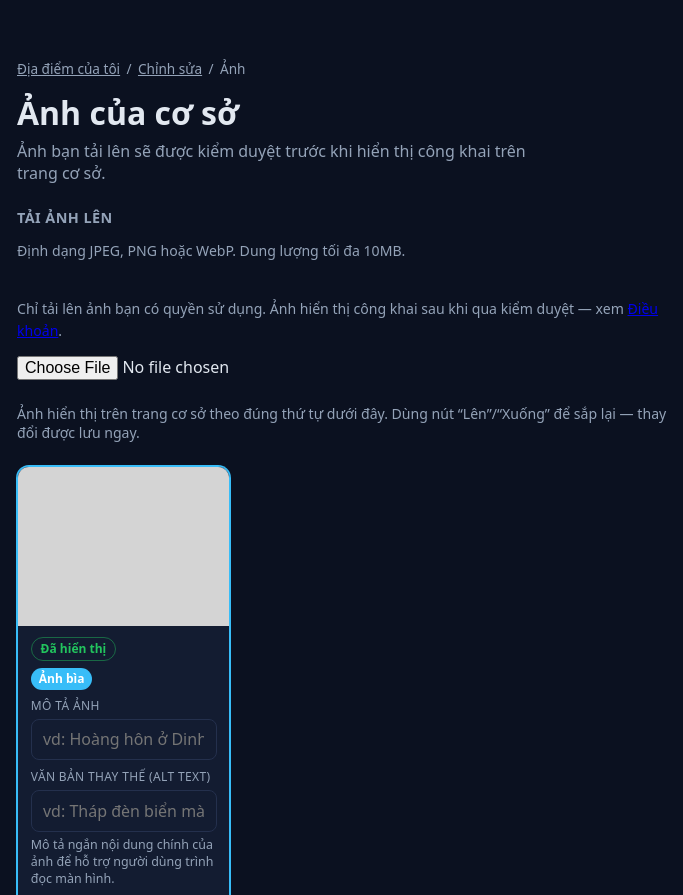
Scenario: PhotosView — sửa mô tả ảnh (caption/alt_text) › ảnh đang là bìa: sửa metadata KHÔNG làm mất huy hiệu "Ảnh bìa"
Expected: the text "Ảnh bìa" is shown, [31,668,92,690]
In the field labelled "Mô tả ảnh": (124, 739) [31,719,216,760], type "x"
(page scrolled)
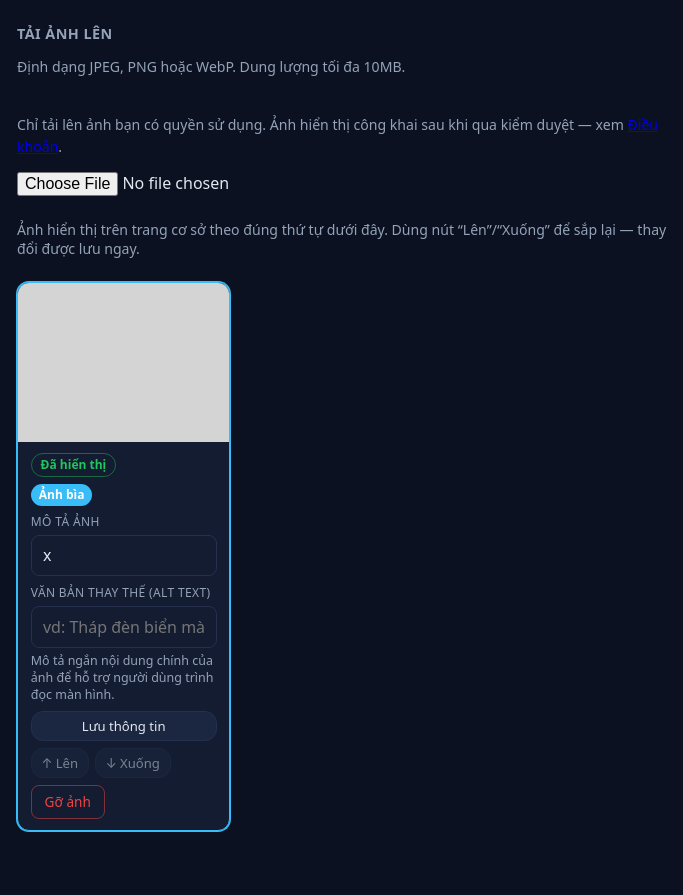
Click the button "Lưu thông tin": click(124, 726) [31,711,216,741]
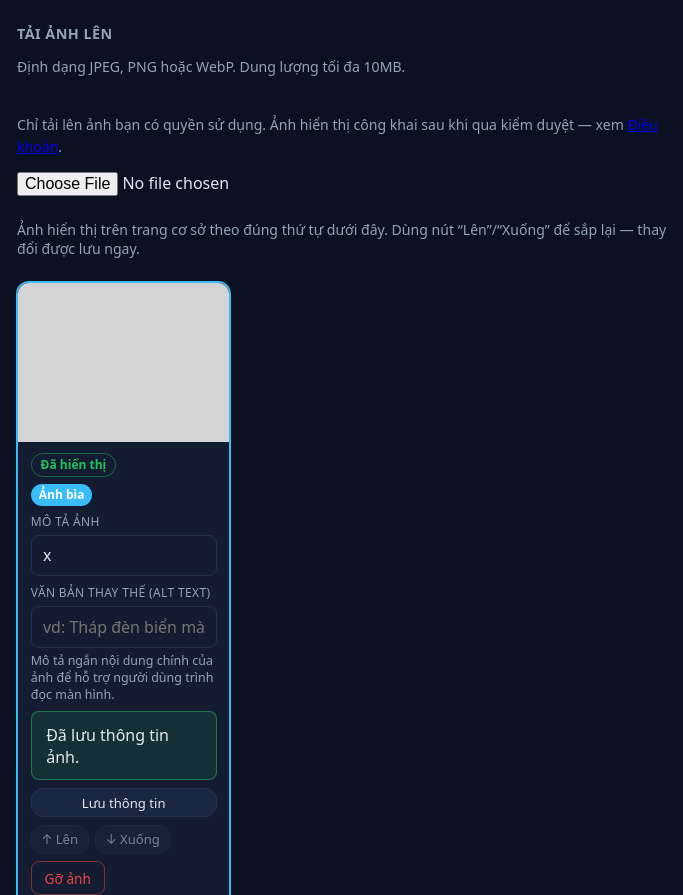
Expected: the text "Ảnh bìa" is shown, [31,484,92,506]
Now the text "Đã lưu thông tin ảnh." is shown, box [31,711,216,780]
